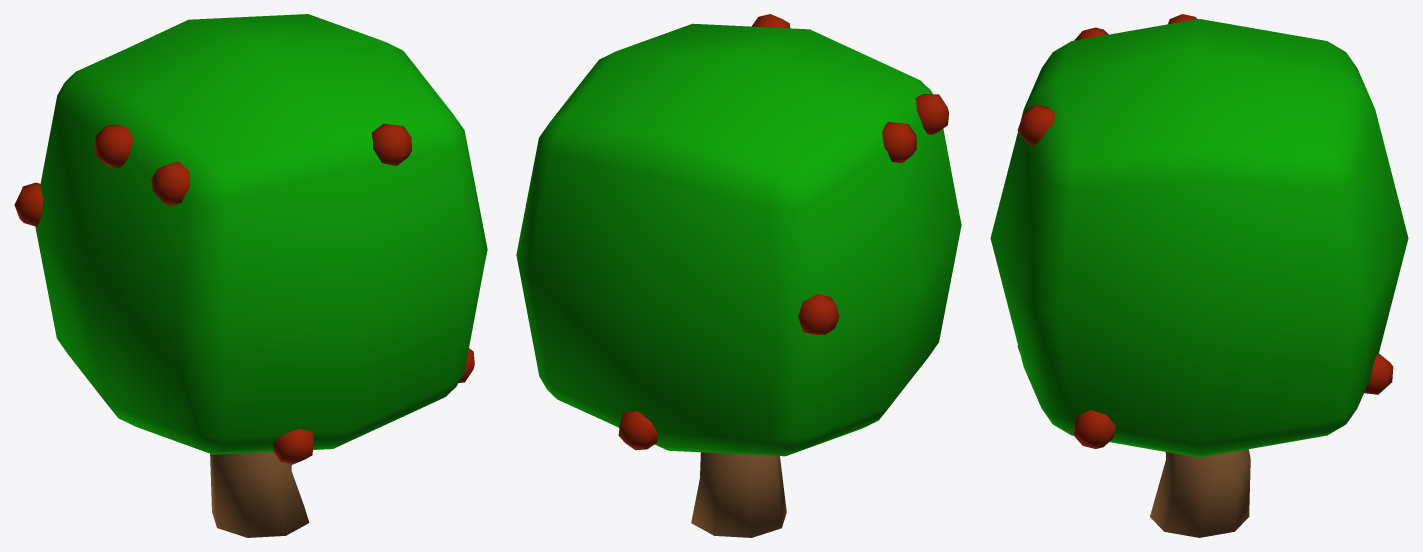
File: Arbol 2.fbx
3 views of the same model, side by side, from view 1: azimuth 30°, elevation 25°; view 2: azimuth 150°, elevation 25°; view 3: azimuth 270°, elevation 25° (orthographic).
Visible parts, largest first — view 1: Cube.078, Cylinder.005, Cube.078|Cube.079|Dupli|4, Cube.078|Cube.079|Dupli|6, Cube.078|Cube.079|Dupli|5, Cube.078|Cube.079|Dupli|1, Cube.078|Cube.079|Dupli|; view 2: Cube.078, Cylinder.005, Cube.078|Cube.079|Dupli|, Cube.078|Cube.079|Dupli|3, Cube.078|Cube.079|Dupli|6, Cube.078|Cube.079|Dupli|5; view 3: Cube.078, Cylinder.005, Cube.078|Cube.079|Dupli|2, Cube.078|Cube.079|Dupli|4, Cube.078|Cube.079|Dupli|3.
Part boxes in pixels (x1,y1,x2,y2): Cube.078: (35, 14, 487, 454); Cylinder.005: (210, 452, 309, 537); Cube.078|Cube.079|Dupli|4: (371, 123, 411, 165); Cube.078|Cube.079|Dupli|6: (94, 124, 133, 167); Cube.078|Cube.079|Dupli|5: (151, 161, 190, 206); Cube.078|Cube.079|Dupli|1: (272, 428, 313, 464); Cube.078|Cube.079|Dupli|: (14, 182, 43, 226); Cube.078: (516, 23, 961, 456); Cylinder.005: (691, 452, 786, 537); Cube.078|Cube.079|Dupli|: (798, 294, 839, 335); Cube.078|Cube.079|Dupli|3: (618, 411, 657, 450); Cube.078|Cube.079|Dupli|6: (882, 122, 916, 163); Cube.078|Cube.079|Dupli|5: (915, 94, 948, 134); Cube.078: (990, 19, 1408, 457); Cylinder.005: (1150, 449, 1250, 537); Cube.078|Cube.079|Dupli|2: (1074, 410, 1115, 448); Cube.078|Cube.079|Dupli|4: (1017, 104, 1055, 146); Cube.078|Cube.079|Dupli|3: (1364, 354, 1393, 394).
Size of the model in its own units: 254 by 314 by 254.
